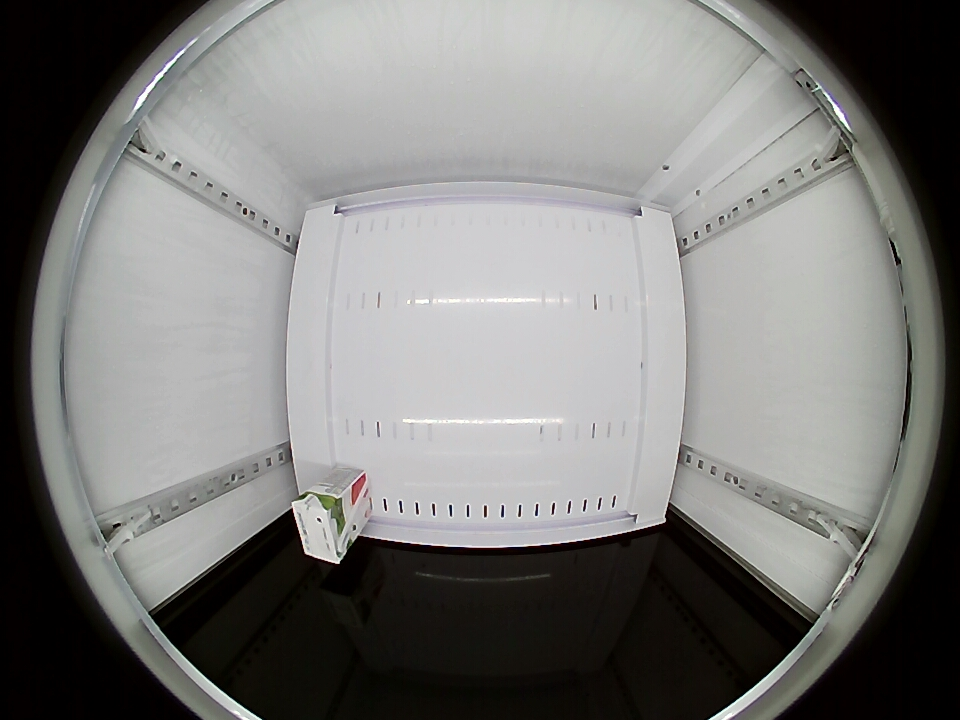mengniu: (291, 487, 352, 564)
